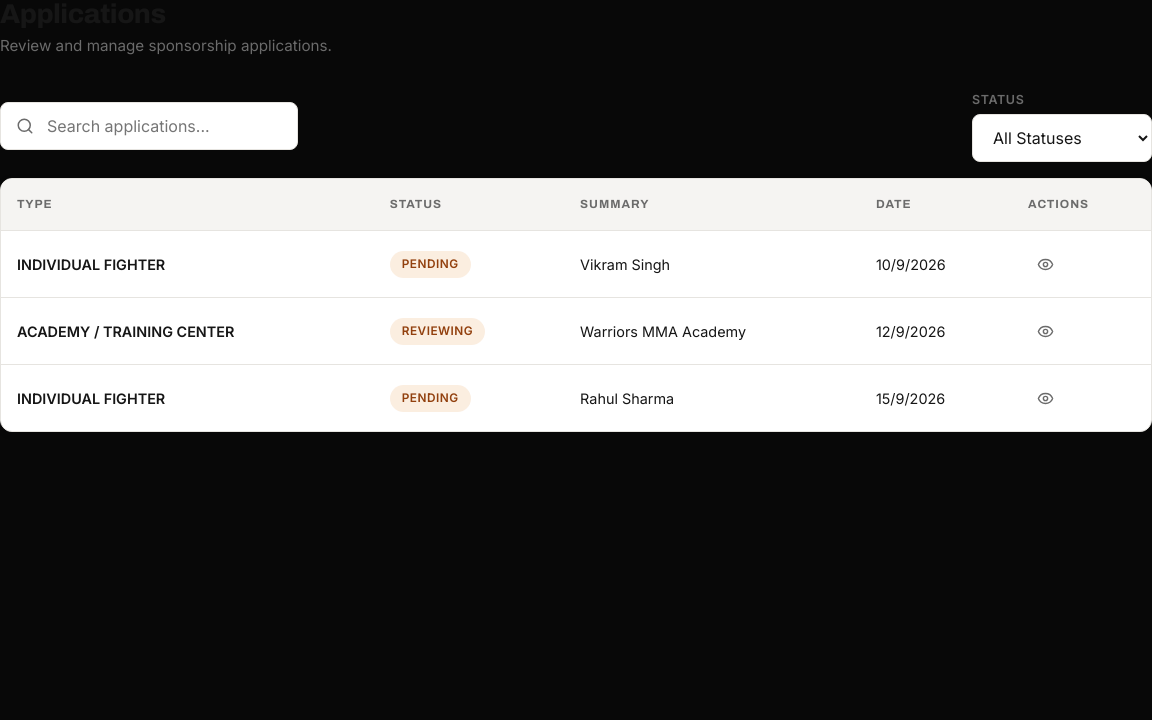
Scenario: AdminApplications supporting documents detail › renders fallback message when application has no attached supporting documents
# Open detail for Rahul Sharma
Step 1. Click the text "Rahul Sharma" → (627, 398), box [564, 365, 860, 431]
(page scrolled)
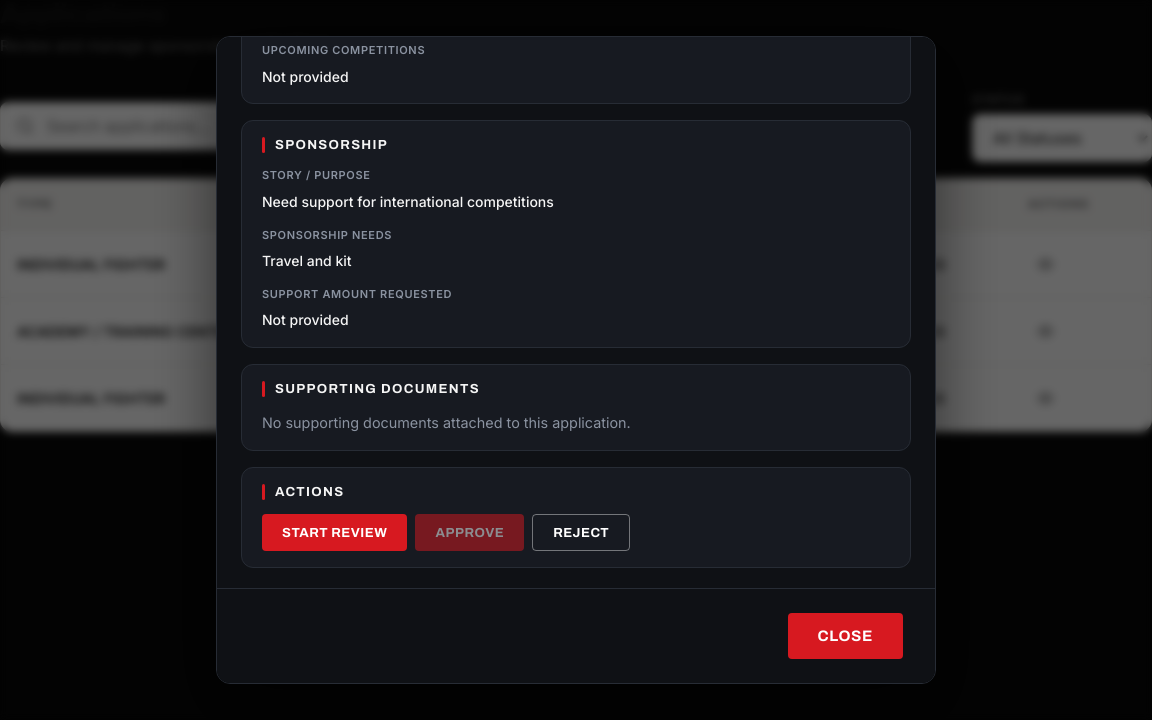
Now the heading "Supporting Documents" is shown, box [275, 381, 480, 396]
Now the text "No supporting documents attached to this application." is shown, box [262, 414, 631, 431]
